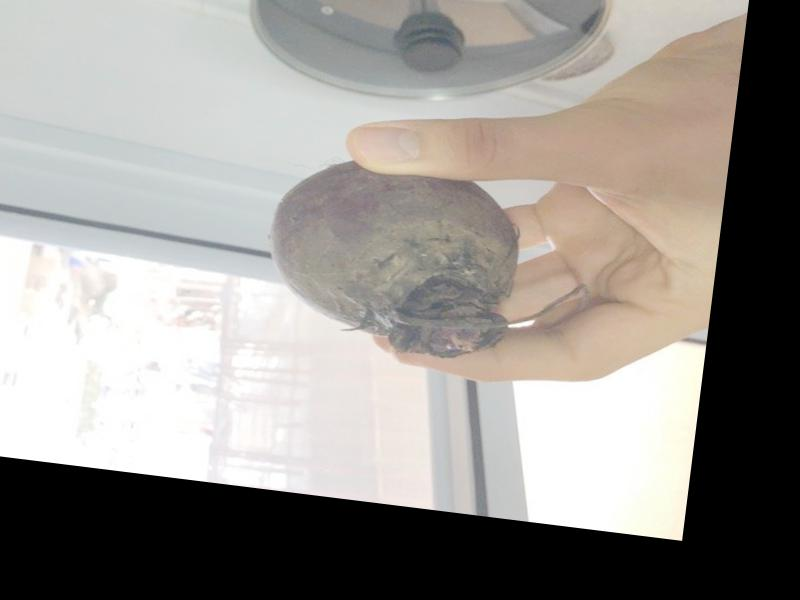Beet: (257, 149, 599, 375)
